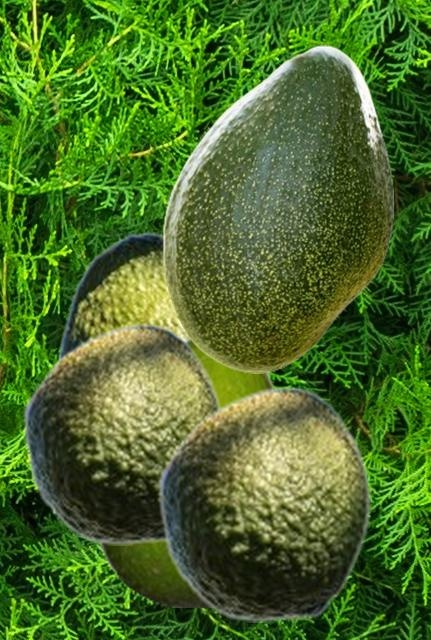avocado: (162, 45, 392, 372), (157, 386, 370, 621), (95, 335, 278, 606), (22, 323, 222, 544), (53, 231, 270, 373)
